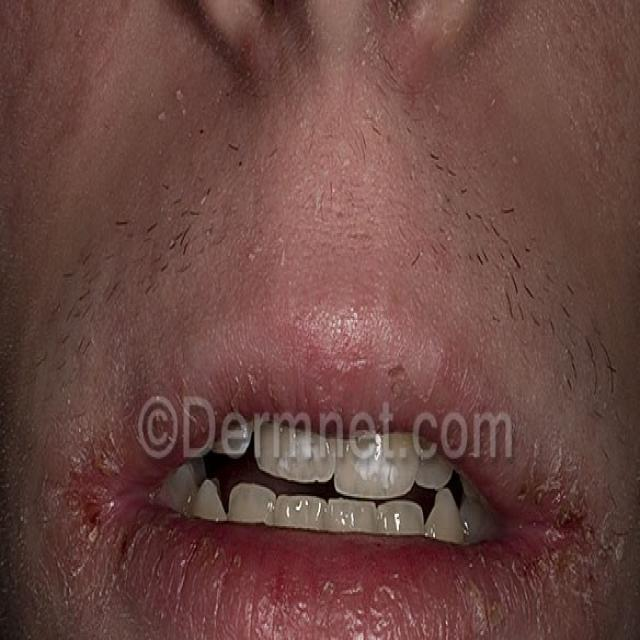Acne: (32, 425, 152, 640), (519, 439, 627, 640)
